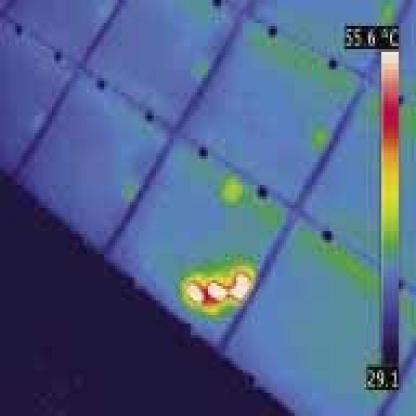Defects: (230, 280, 251, 306), (186, 286, 206, 306), (206, 283, 223, 303)
